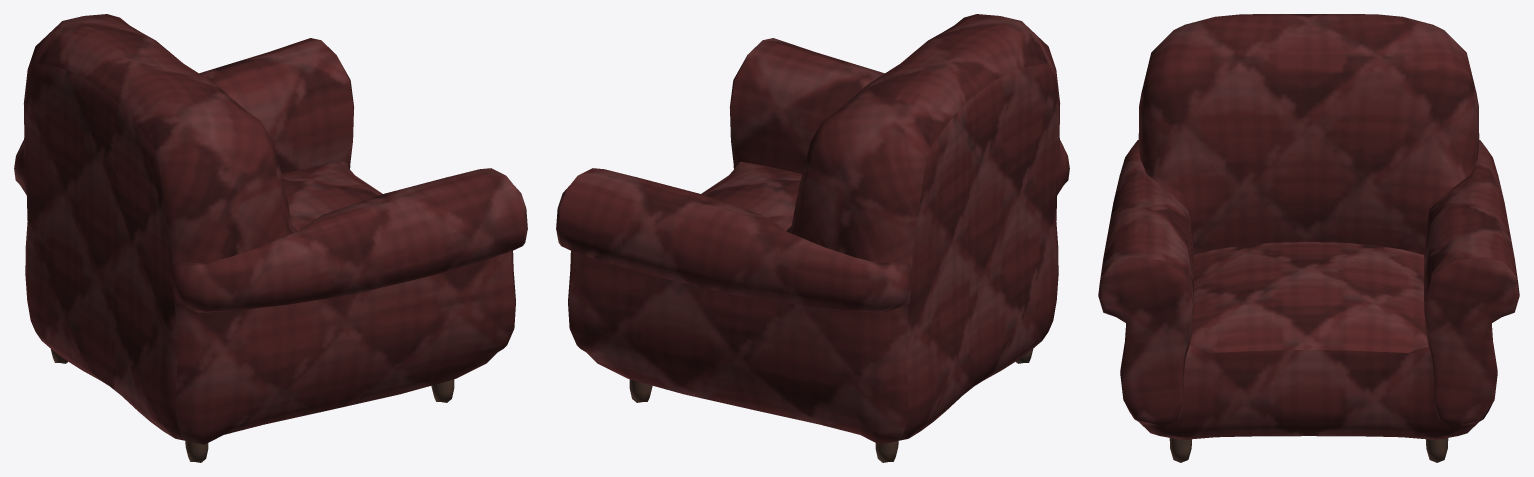
The model's file is STFsmall_sofa.glb.
The picture shows the model from 3 angles, left to right: view 1: azimuth 30°, elevation 25°; view 2: azimuth 150°, elevation 25°; view 3: azimuth 270°, elevation 25°; orthographic projection. The views are drawn at different scales.
Visible parts, largest first — view 1: STFsmall_sofa; view 2: STFsmall_sofa; view 3: STFsmall_sofa.
Part boxes in pixels (box(x1,y1,x2,y2)): STFsmall_sofa: box(14, 14, 527, 462); STFsmall_sofa: box(556, 14, 1069, 462); STFsmall_sofa: box(1098, 14, 1519, 462).
Size of the model in its own units: 0.9044 by 0.9312 by 1.08.
2 materials, 2 textured.
